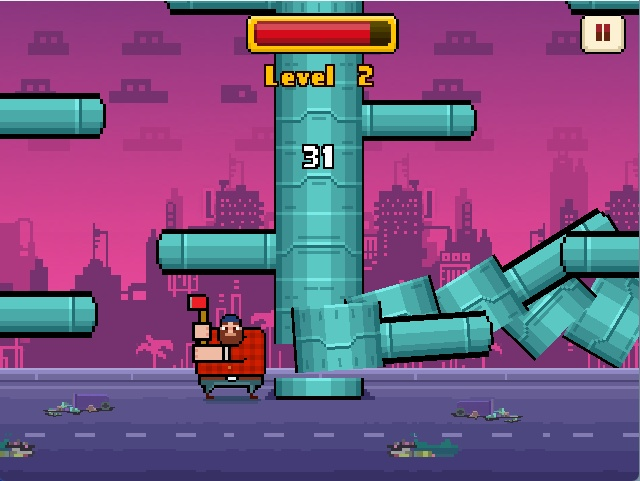left_obs: (145, 222, 281, 277)
right_obs: (359, 97, 479, 146)
timberman: (179, 290, 275, 409)
